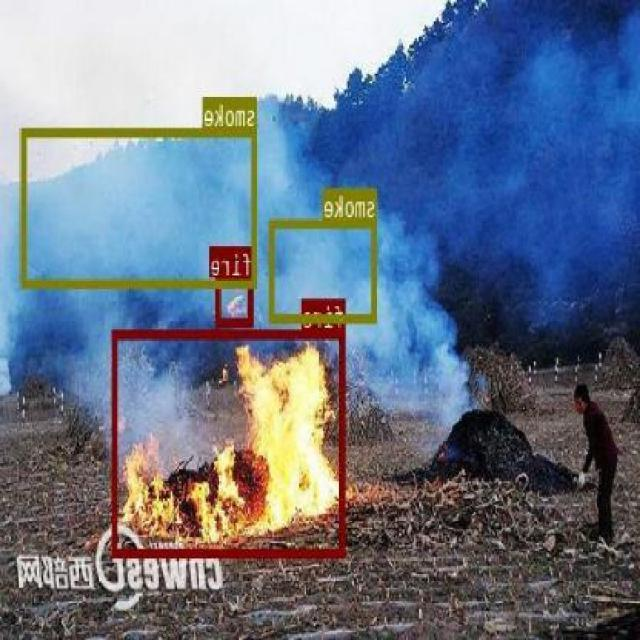Fire: (113, 328, 347, 556), (217, 277, 254, 325)
Smoke: (464, 44, 616, 322), (22, 127, 258, 286), (271, 216, 378, 322)
